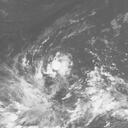cyclone: (27, 59, 103, 108)
